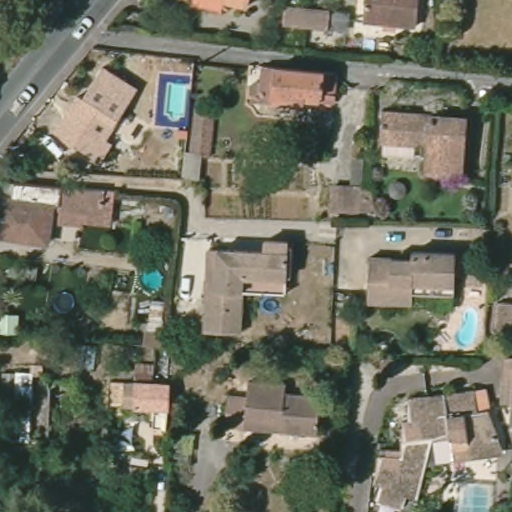pool: (160, 79, 191, 125), (457, 303, 481, 349), (137, 266, 168, 299), (465, 477, 493, 512)
